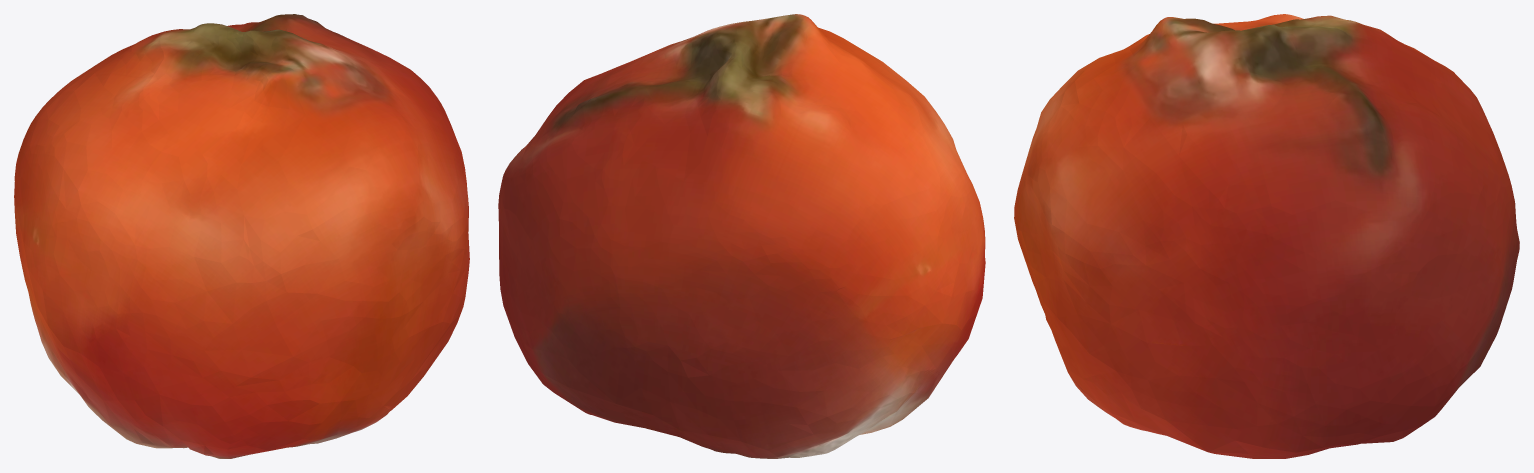
The model's file is realtomato.glb.
The picture shows the model from 3 angles, left to right: view 1: azimuth 30°, elevation 25°; view 2: azimuth 150°, elevation 25°; view 3: azimuth 270°, elevation 25°; orthographic projection. The views are drawn at different scales.
Visible parts, largest first — view 1: Tomato; view 2: Tomato; view 3: Tomato.
Part boxes in pixels (x1,y1,x2,y2): Tomato: [14, 14, 469, 458]; Tomato: [498, 14, 985, 458]; Tomato: [1014, 14, 1519, 458].
Bounding box in the file's own units: 0.0812 × 0.07 × 0.0805.
1 material, 1 textured.
